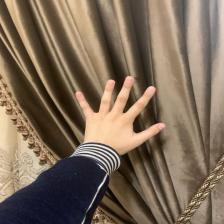five: (73, 74, 171, 157)
